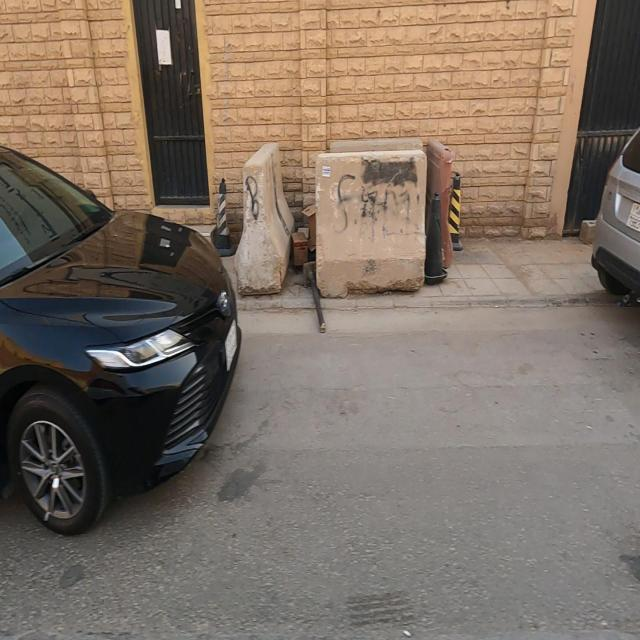Graffiti: (338, 158, 424, 243), (245, 178, 261, 223)
